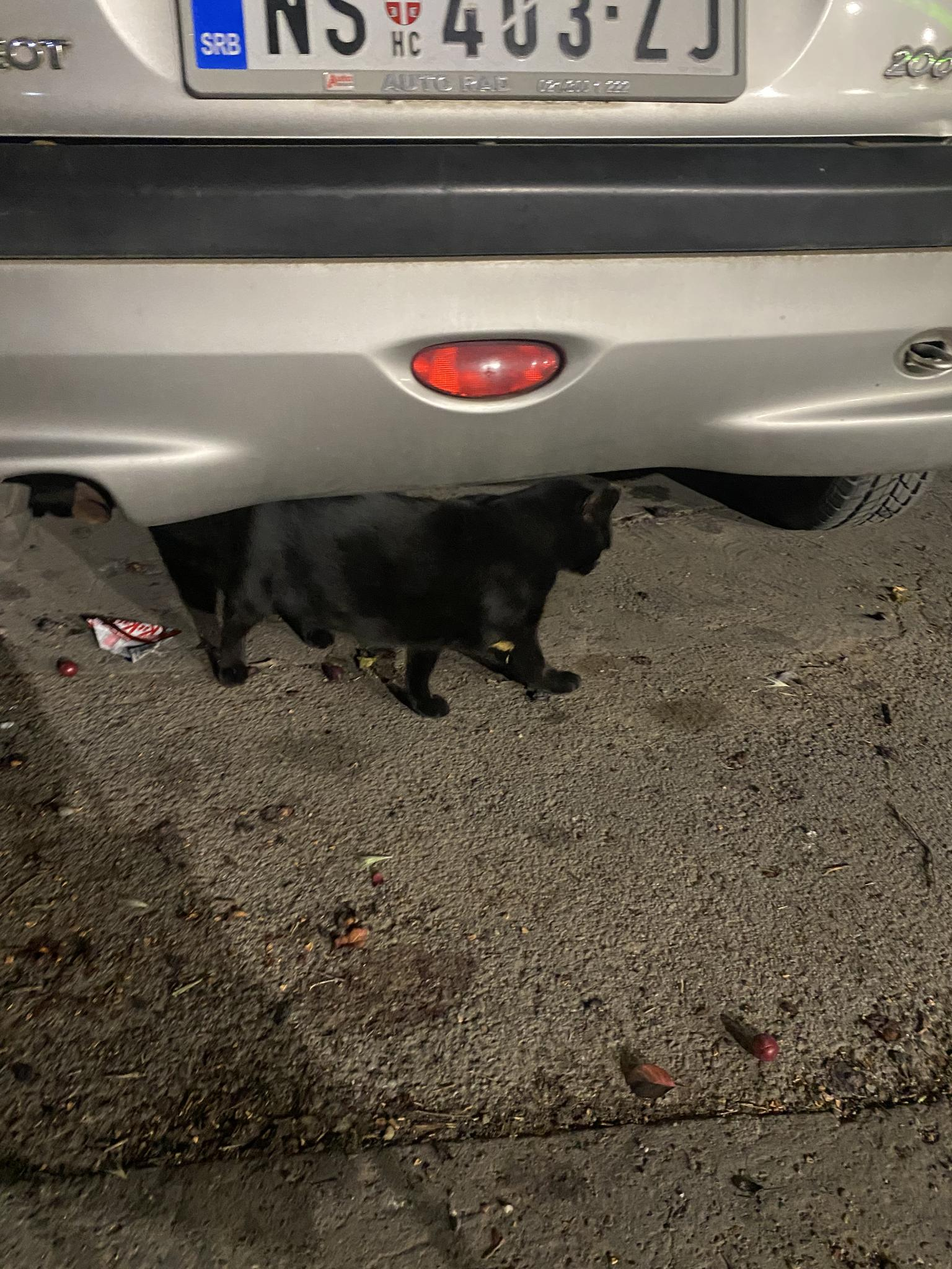macka: (211, 480, 624, 720)
